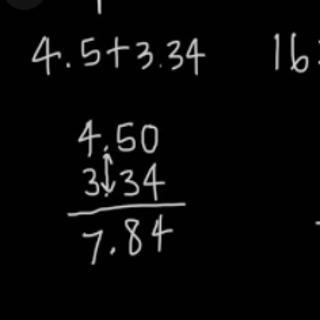.: (108, 244, 117, 258), (63, 59, 75, 69), (156, 61, 164, 73), (102, 142, 111, 151)
0: (140, 123, 161, 157)
1: (271, 30, 282, 73)
3: (165, 33, 184, 78), (78, 164, 101, 200), (119, 165, 141, 198), (132, 38, 153, 72)
4: (29, 32, 63, 78), (146, 213, 176, 259), (138, 161, 168, 201), (184, 33, 207, 83), (76, 118, 102, 160)
5: (76, 34, 104, 75), (114, 119, 137, 156)
6: (289, 31, 310, 76)
7: (77, 226, 107, 271)
8: (120, 214, 146, 259)
